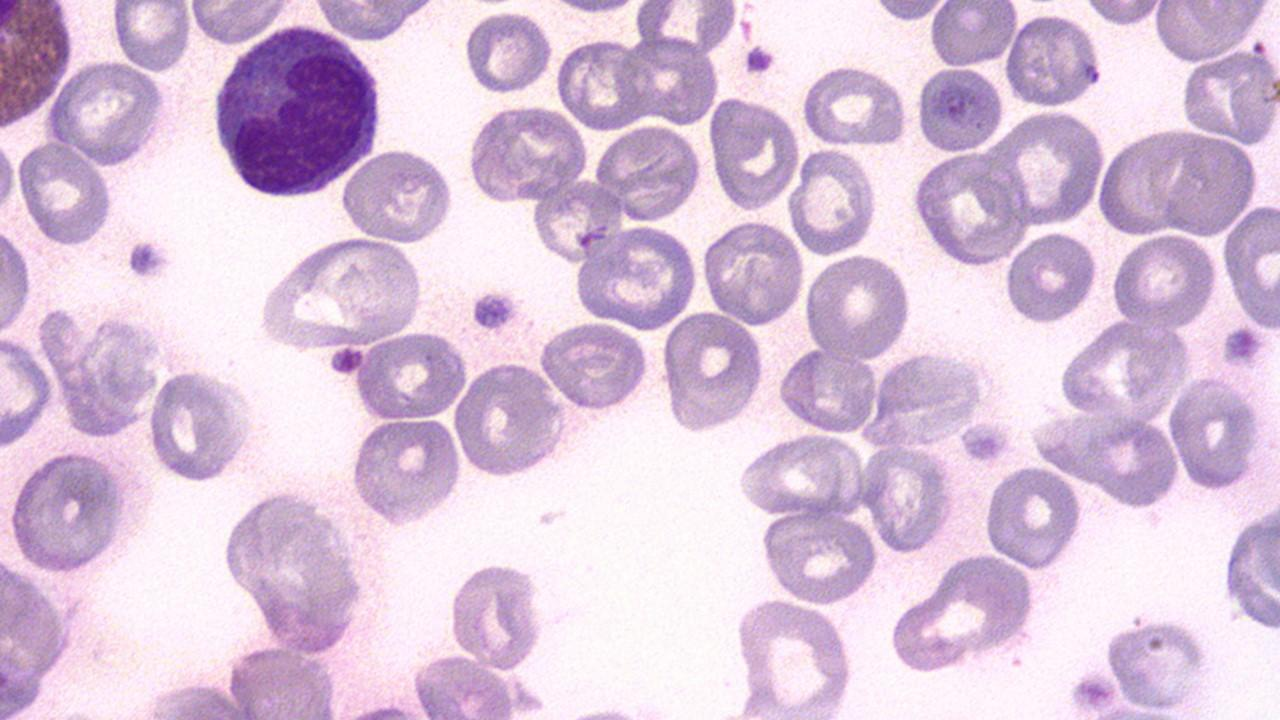Platelets: (956, 419, 1014, 463), (123, 234, 170, 284), (469, 286, 520, 332), (1220, 323, 1264, 365), (326, 344, 364, 378), (742, 42, 777, 77)
RBC: (253, 232, 428, 360), (887, 551, 1040, 679), (36, 301, 170, 440), (5, 447, 147, 578), (1057, 315, 1191, 428), (988, 105, 1105, 229), (910, 149, 1032, 267), (736, 598, 858, 714), (452, 359, 569, 479), (146, 366, 261, 486), (658, 308, 766, 434), (572, 224, 700, 330), (465, 101, 590, 205), (0, 554, 79, 718), (347, 416, 464, 526), (49, 64, 174, 165), (804, 252, 914, 364), (868, 350, 992, 449), (338, 144, 456, 246), (699, 217, 807, 327), (758, 510, 880, 606), (734, 432, 866, 520), (1101, 614, 1217, 714), (980, 462, 1084, 572), (446, 558, 546, 672), (706, 95, 802, 212), (592, 124, 704, 224), (1108, 232, 1220, 332), (1168, 373, 1262, 492), (14, 139, 117, 247), (353, 329, 470, 423), (536, 320, 652, 412), (1158, 135, 1260, 238), (786, 146, 880, 257), (0, 0, 76, 137), (861, 444, 956, 553), (1002, 10, 1105, 108), (1096, 128, 1188, 237), (1080, 414, 1182, 512), (798, 64, 911, 150), (620, 33, 721, 129), (1180, 47, 1278, 145), (1002, 230, 1100, 327), (776, 347, 878, 435), (554, 36, 648, 131), (527, 178, 625, 266), (914, 63, 1005, 155), (462, 7, 555, 96), (1150, 1, 1270, 66), (406, 654, 524, 718), (1221, 200, 1279, 330), (631, 0, 740, 65), (1, 333, 56, 451), (926, 1, 1017, 69), (111, 2, 192, 73), (299, 2, 448, 40), (187, 2, 297, 45), (1, 220, 32, 336), (1079, 0, 1167, 28), (867, 0, 946, 25)
WBC: (18, 42, 700, 720), (646, 0, 1280, 720), (244, 0, 933, 464), (206, 21, 386, 203), (218, 479, 388, 657), (256, 233, 428, 360), (36, 297, 171, 434), (4, 446, 148, 574), (0, 548, 105, 716), (455, 360, 583, 476), (468, 101, 590, 205), (0, 0, 78, 136), (1221, 492, 1280, 639), (1144, 2, 1276, 64), (302, 1, 448, 42), (187, 1, 301, 43)
